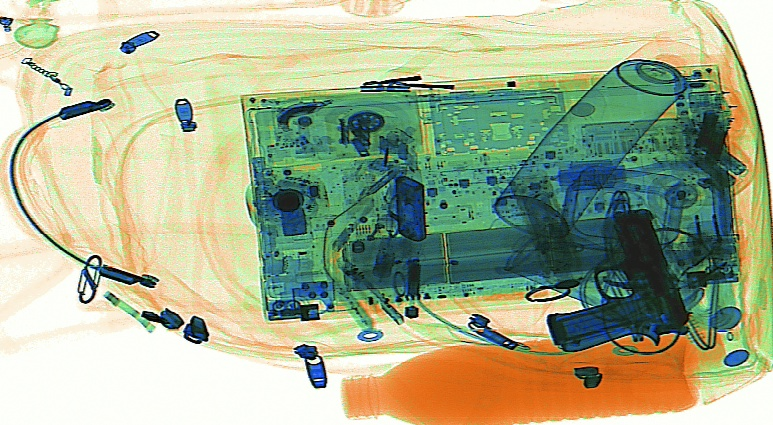pressure: (490, 37, 710, 240)
